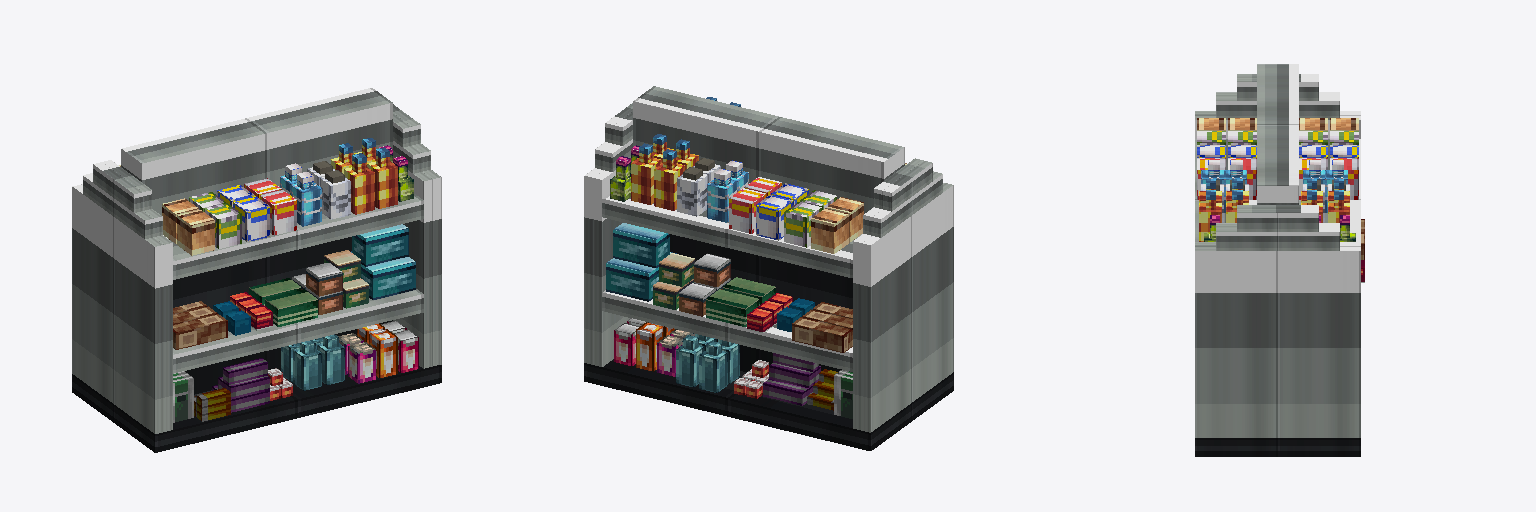
3 views of the same model, side by side, from view 1: azimuth 30°, elevation 25°; view 2: azimuth 150°, elevation 25°; view 3: azimuth 270°, elevation 25° (orthographic).
Parts seen in each view (by area): view 1: cube; view 2: cube; view 3: cube.
Boxes of the visible parts, <box> form: cube: <box>72,88,441,452</box>; cube: <box>584,86,953,450</box>; cube: <box>1195,64,1364,456</box>.
Size of the model in its own units: 1 by 0.875 by 0.5125.
1 materials, 1 textured.